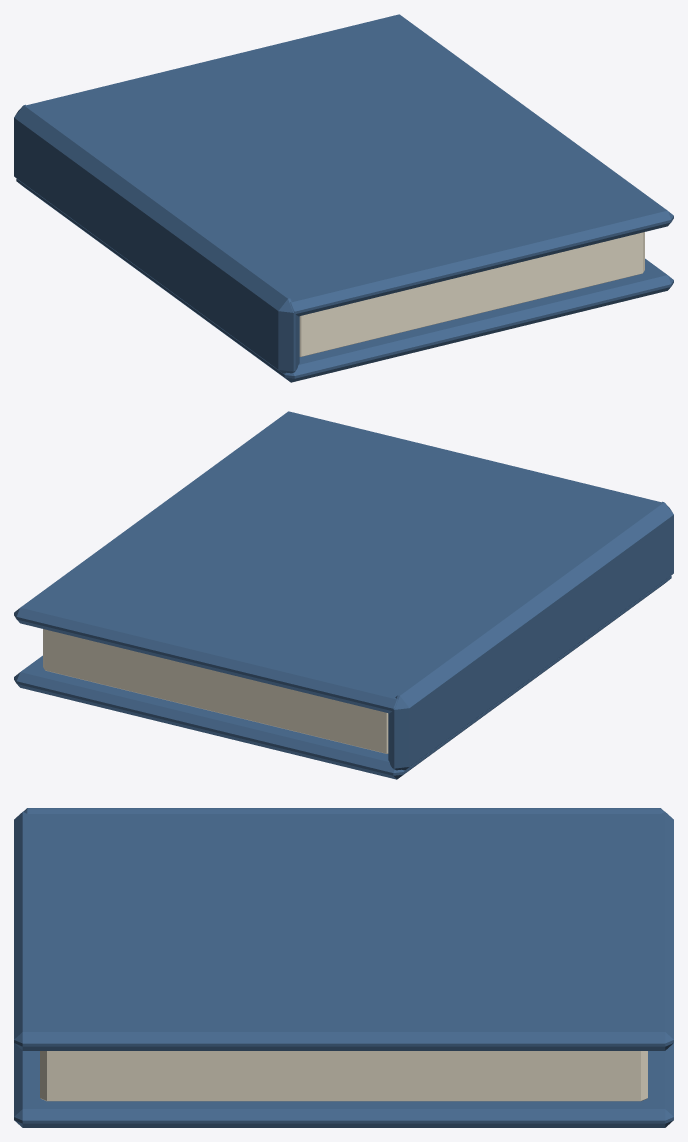
File: closed-book.glb
3 renders of one model, top to bottom at view 1: azimuth 30°, elevation 25°; view 2: azimuth 150°, elevation 25°; view 3: azimuth 270°, elevation 25°, orthographic. The views are drawn at different scales.
Parts seen in each view (by area): view 1: closed_book; view 2: closed_book; view 3: closed_book.
Part boxes in pixels (left/top/right/bottom): closed_book: left=14, top=14, right=673, bottom=382; closed_book: left=14, top=411, right=673, bottom=779; closed_book: left=14, top=808, right=673, bottom=1127.
Bounding box in the file's own units: 0.3135 × 0.063 × 0.38.
